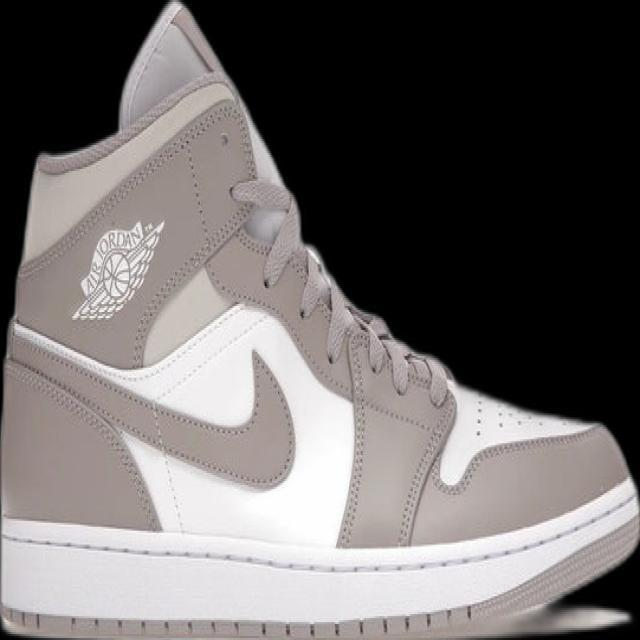J1_InsoleChar: (0, 0, 639, 639)
J1_ShoeLogo: (70, 217, 165, 322)
J1_StitchPattern: (1, 490, 638, 580), (227, 174, 452, 410), (18, 96, 242, 277), (332, 304, 455, 549), (3, 354, 162, 528), (295, 243, 451, 409), (0, 601, 633, 639), (343, 304, 451, 408), (394, 402, 456, 548), (334, 317, 371, 549)
